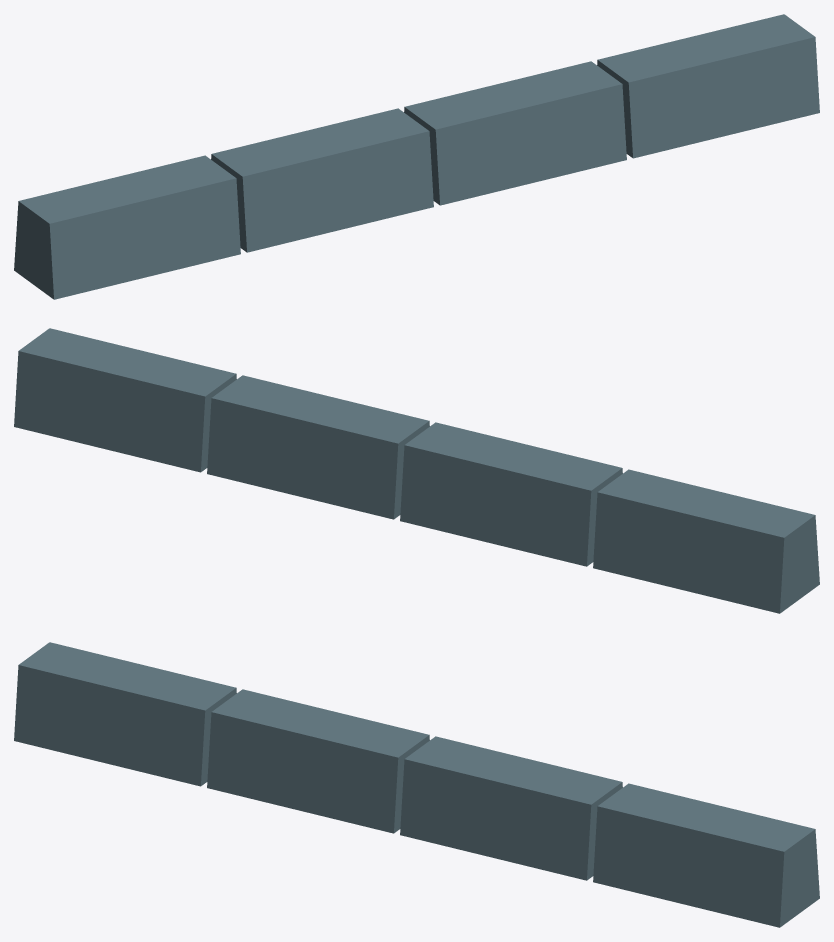
File: edging_2m.glb
The picture shows the model from 3 angles, top to bottom: view 1: azimuth 30°, elevation 25°; view 2: azimuth 150°, elevation 25°; view 3: azimuth 330°, elevation 25°; orthographic projection.
Parts seen in each view (by area): view 1: Edging2M / Stone; view 2: Edging2M / Stone; view 3: Edging2M / Stone.
Boxes of the visible parts, x1=… form: Edging2M / Stone: x1=14, y1=14, x2=819, y2=299; Edging2M / Stone: x1=14, y1=328, x2=819, y2=613; Edging2M / Stone: x1=14, y1=642, x2=819, y2=927.
Size of the model in its own units: 1.98 by 0.18 by 0.18.
